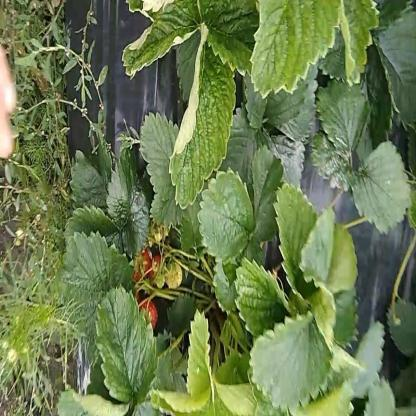ripe: (141, 299, 161, 334), (132, 244, 149, 285), (151, 252, 163, 282)
unripe: (168, 260, 184, 289), (156, 269, 167, 293)
